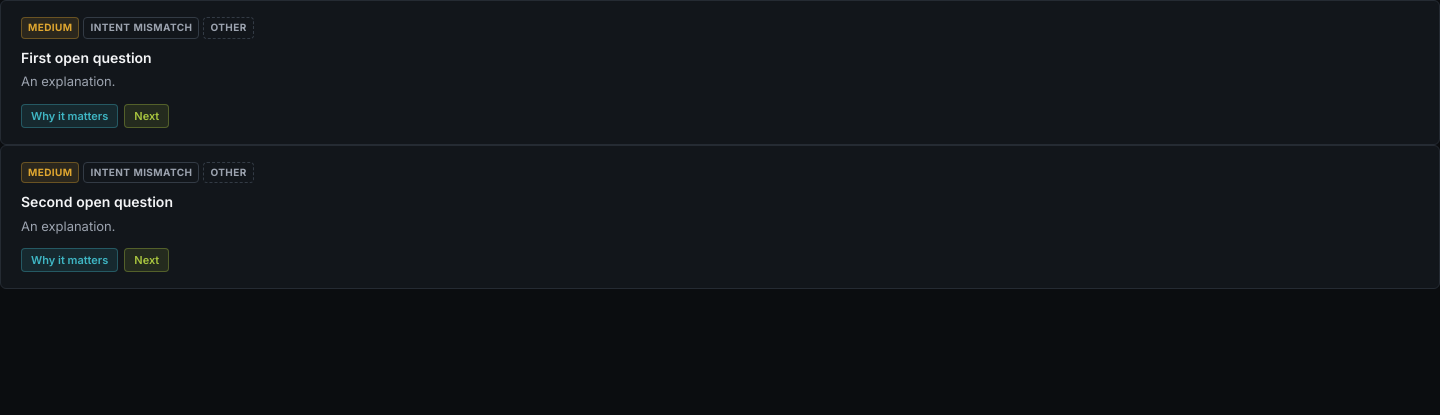
FindingCard › keeps each card's open facet fully independent when multiple cards render together
Click the button "Why it matters" below "First open question": (70, 116) [21, 104, 118, 128]
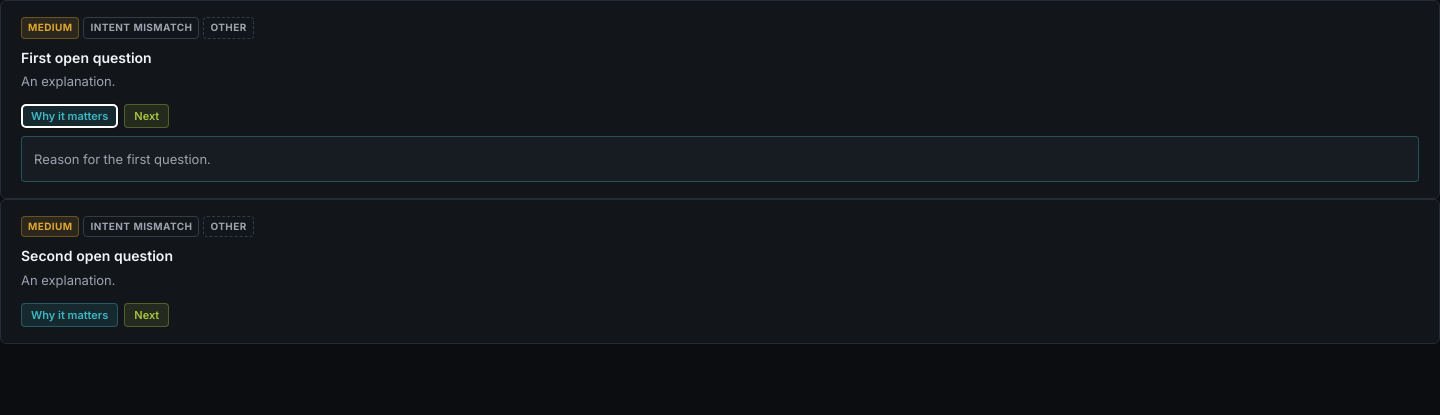
Expected: the text "Reason for the second question." is not shown
Result: the text "Reason for the first question." is shown at [34, 151, 211, 167]
Click the button "Why it matters" below "Second open question": (70, 314) [21, 302, 118, 326]
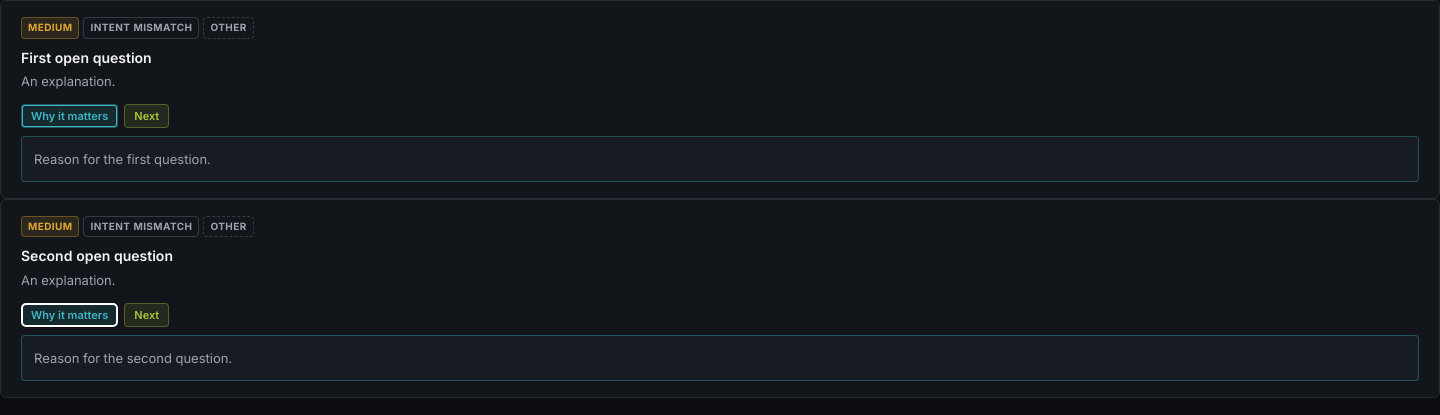
Result: the text "Reason for the first question." is shown at [34, 151, 211, 167]
Result: the text "Reason for the second question." is shown at [34, 350, 232, 366]
Click the button "Next" below "First open question": (147, 116) [124, 104, 169, 128]
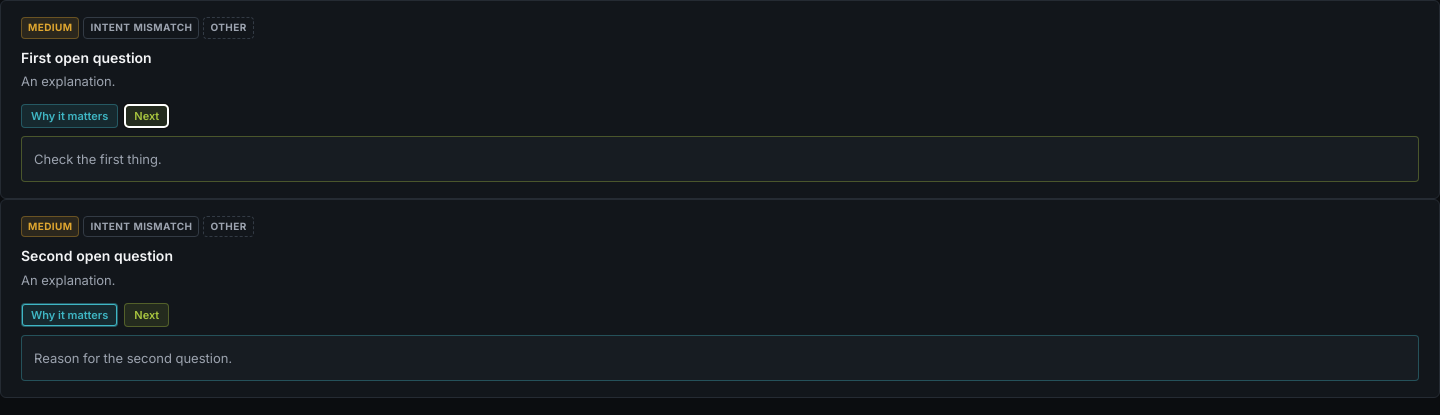
Result: the text "Reason for the second question." is shown at [34, 350, 232, 366]
Result: the text "Reason for the first question." is gone
Result: the text "Check the first thing." is shown at [34, 151, 162, 167]
